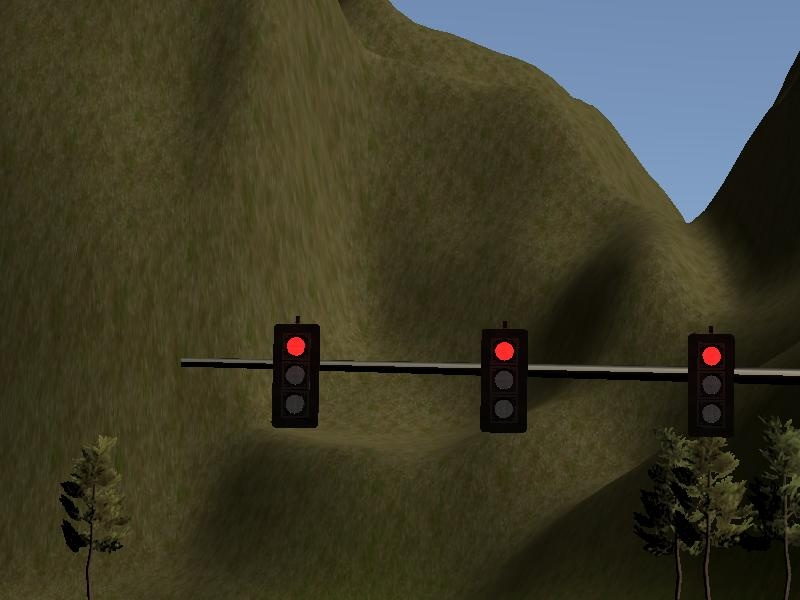red: (477, 317, 533, 440), (269, 314, 323, 429), (686, 323, 737, 442)
